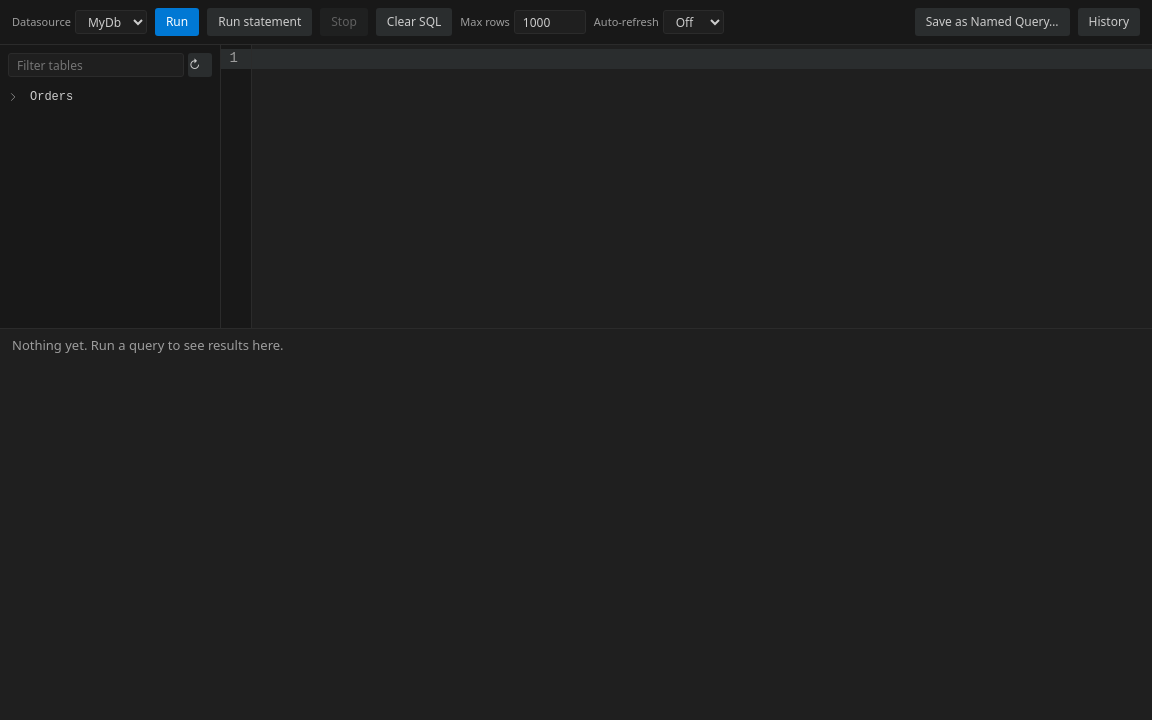
it: QueryBrowser — save as named query (C) › refuses to overwrite an existing named query at the same path
Click the button "Save as Named Query…" at (992, 22), box [915,8,1070,36]
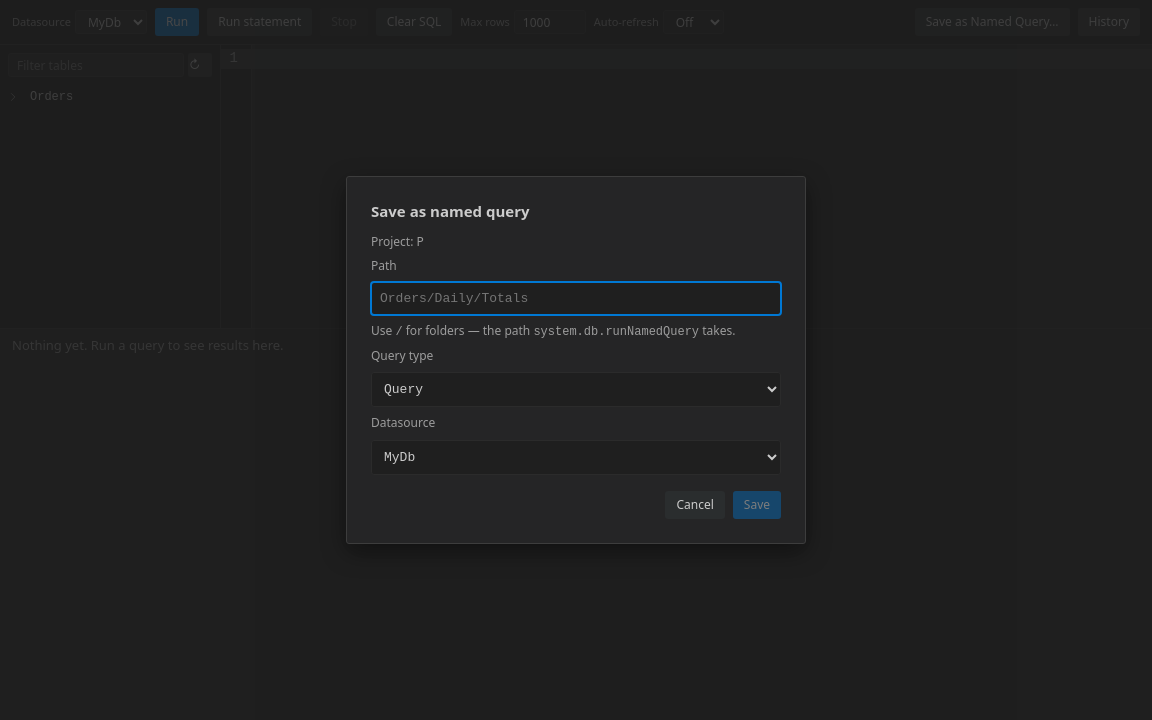
Type "Orders/Totals" into the field labelled "Path" at (576, 298), box [371,282,781,315]
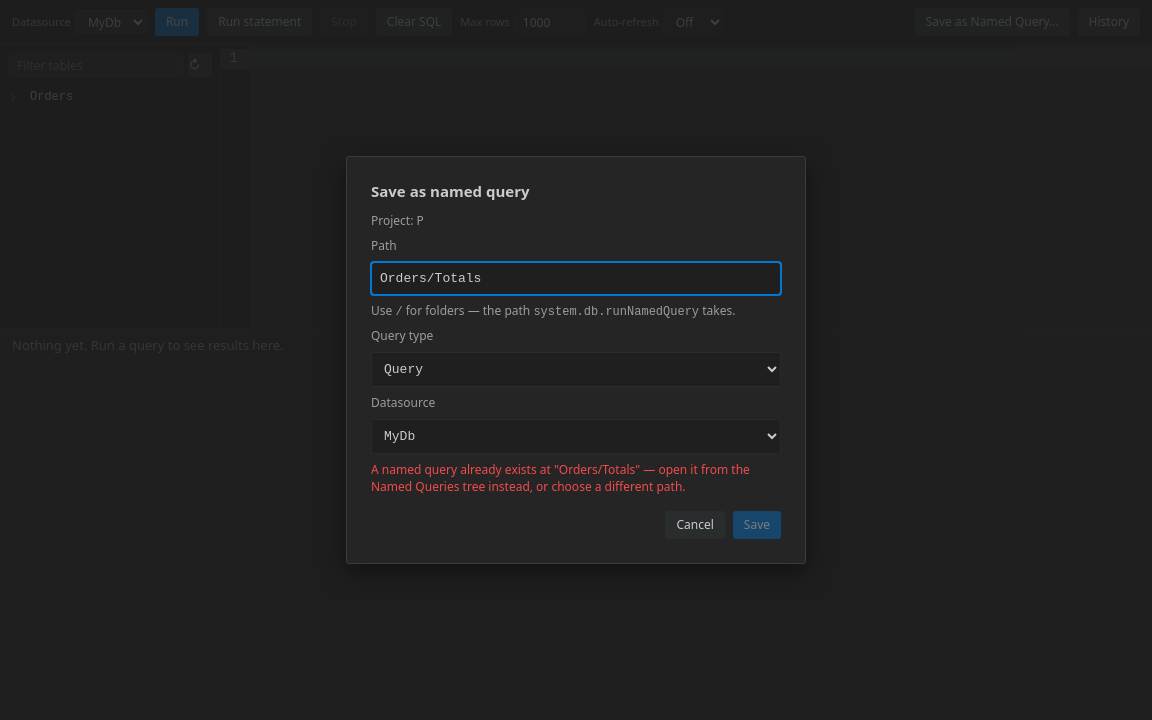
Expected: the button "Save" is disabled, [733,511,781,539]
Expected: the text "already exists" is shown, [371,461,750,495]
